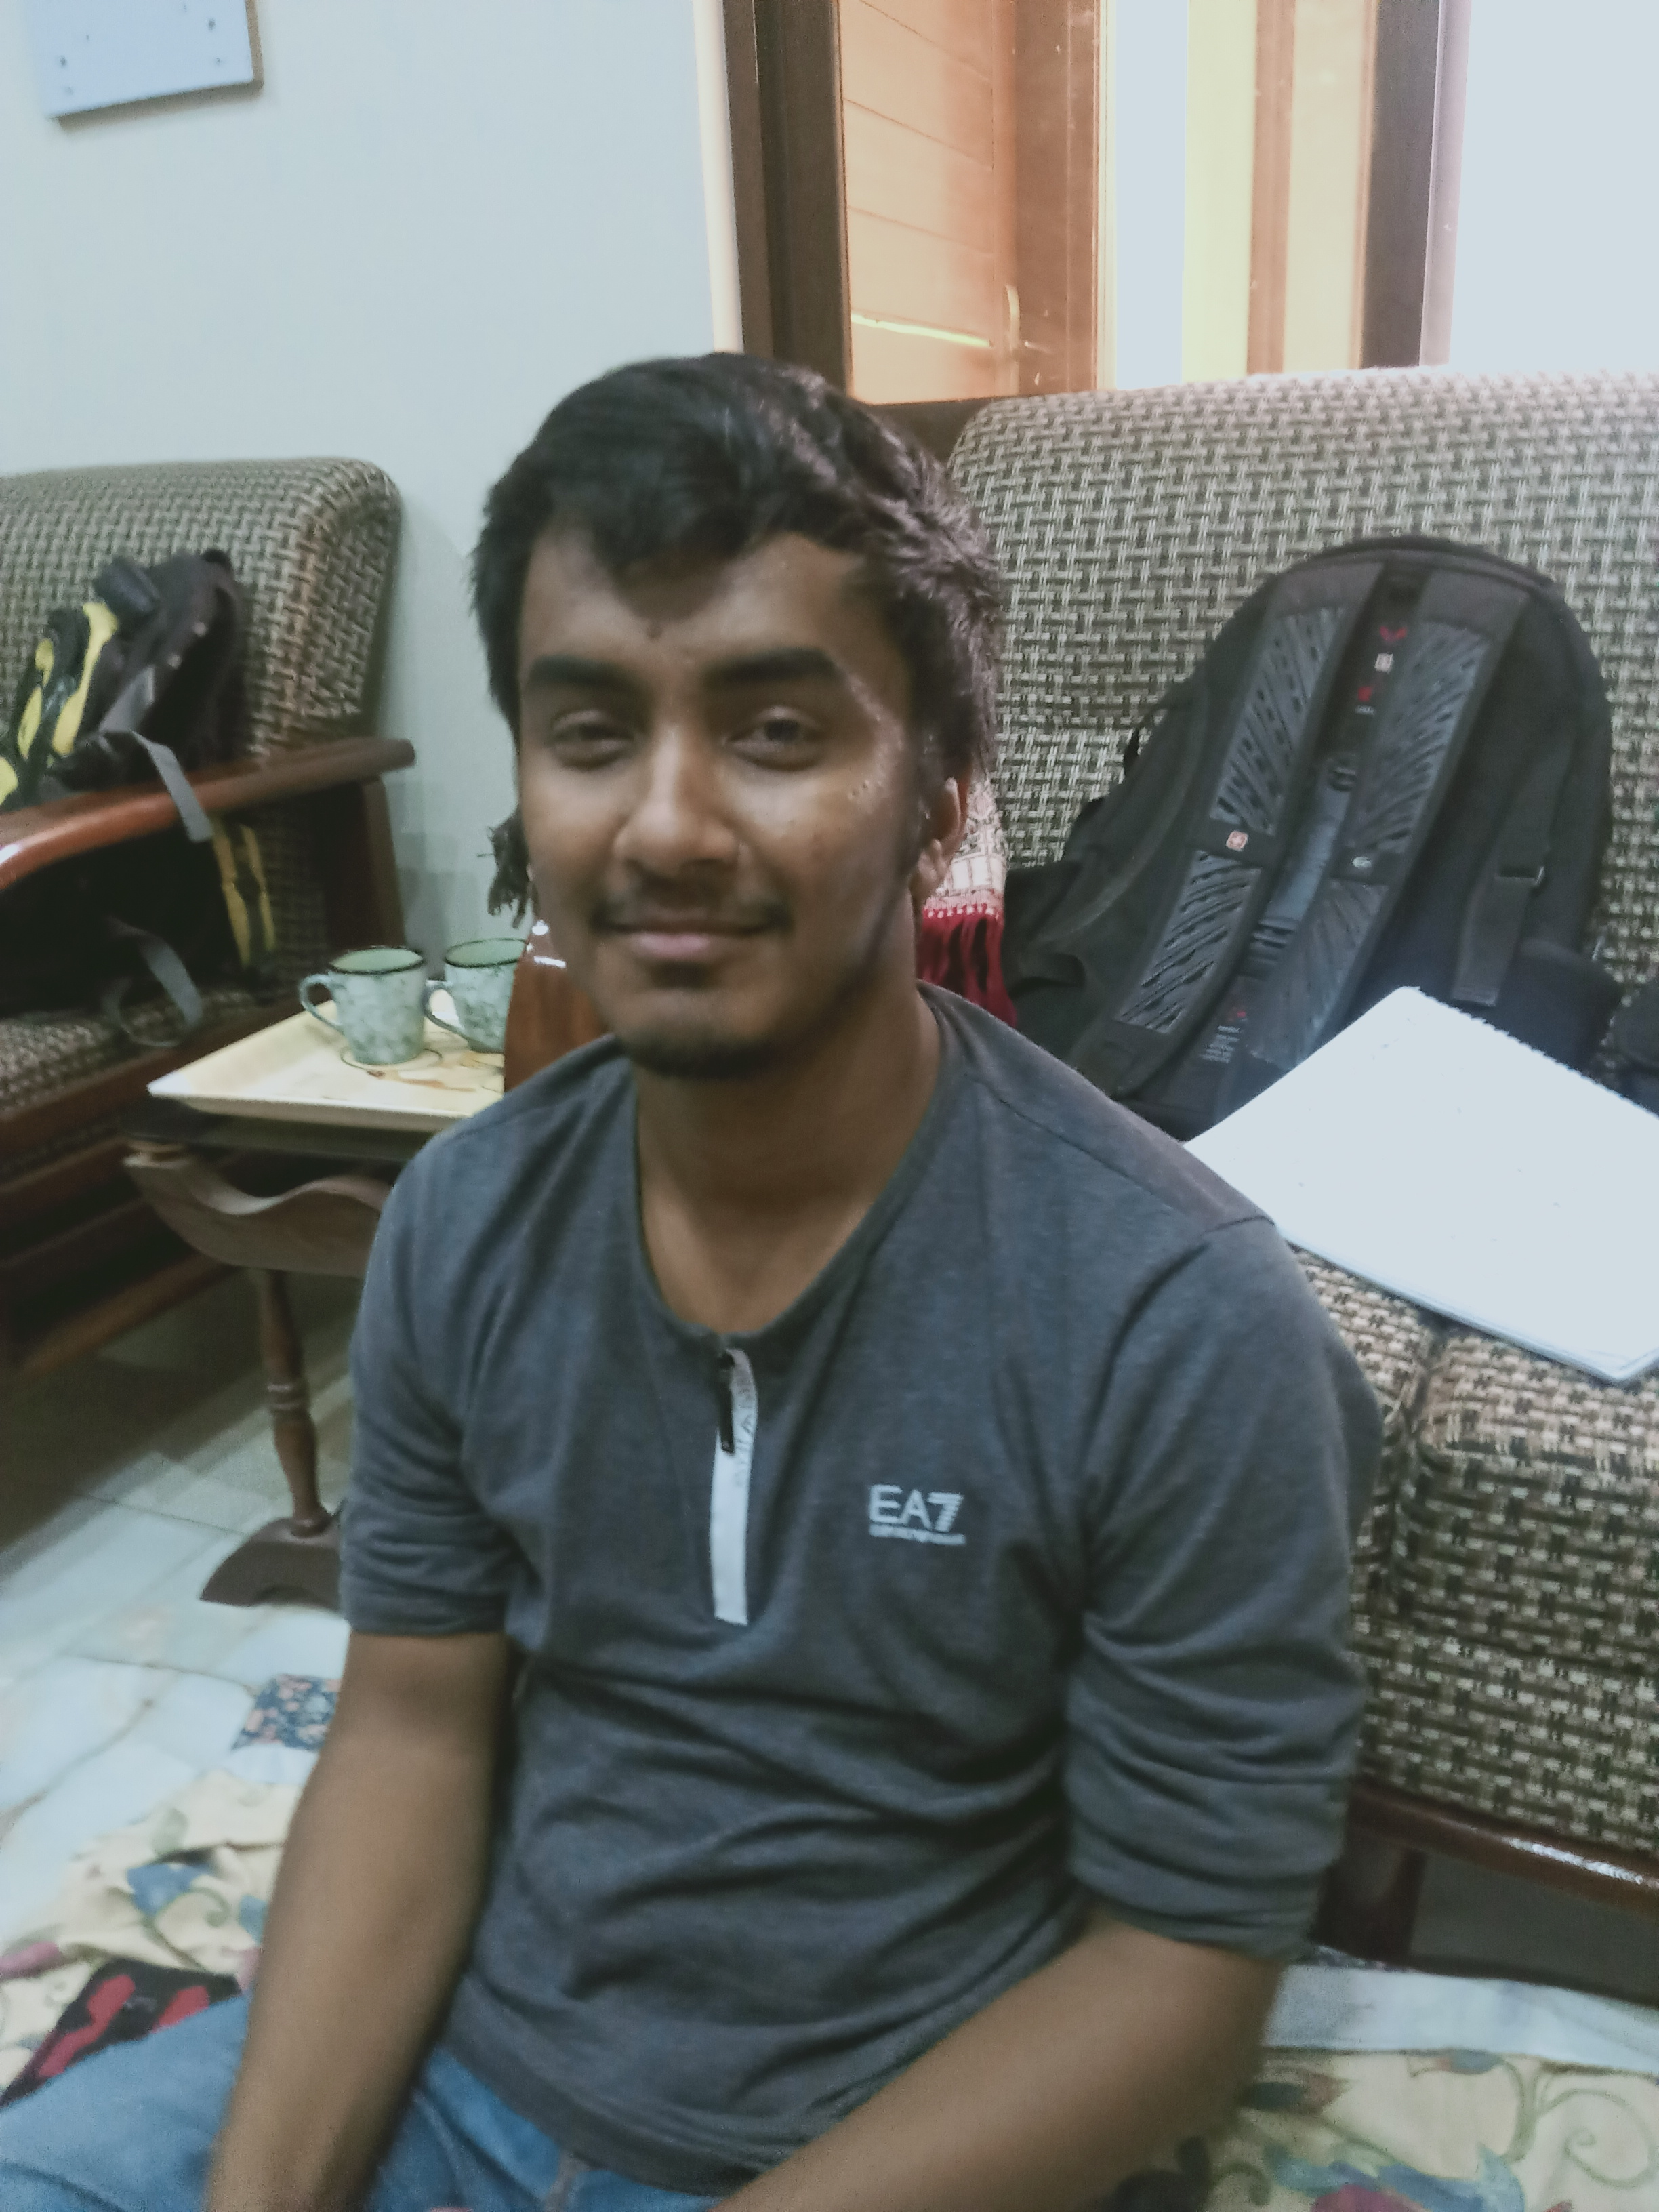NoMask: (514, 628, 867, 1062)
